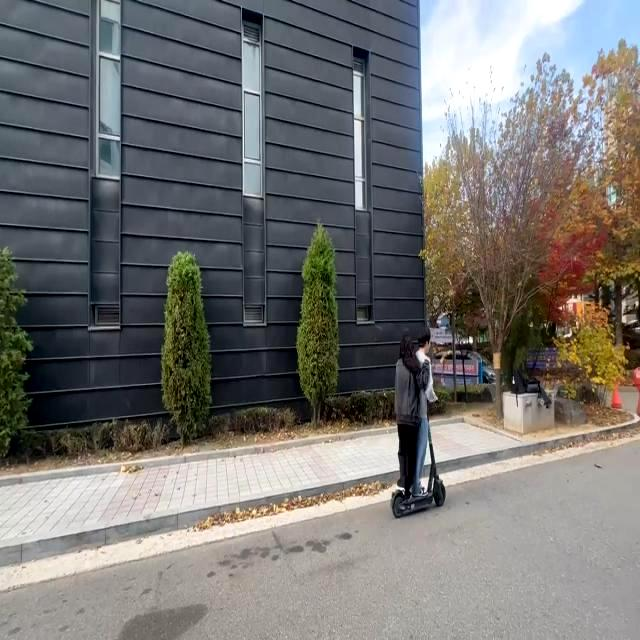bare_head: (412, 323, 432, 354), (396, 334, 415, 354)
human: (393, 333, 416, 501), (409, 322, 428, 498)
kickboard: (386, 476, 449, 523)
